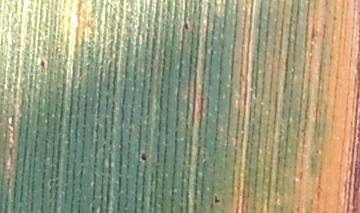tarspot: (139, 151, 148, 162), (213, 194, 221, 206), (39, 56, 46, 69), (182, 21, 190, 32), (331, 14, 338, 21)
